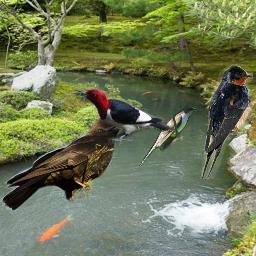Crow: (2, 112, 136, 214)
Cuckoo: (139, 106, 196, 167)
Swallow: (199, 64, 253, 179)
Woodpecker: (69, 86, 175, 145)
